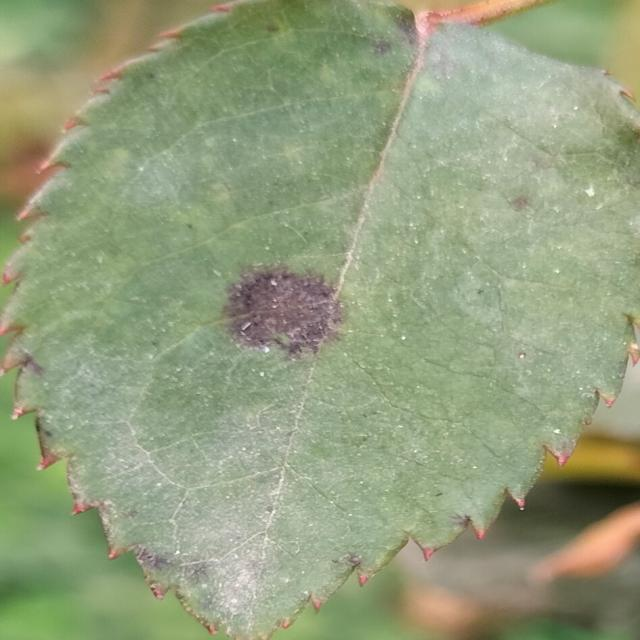Black_spot: (219, 262, 346, 362)
Rose: (0, 0, 638, 639)
